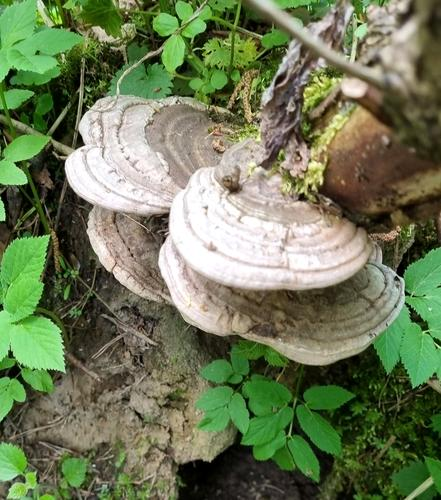Ganoderma - Fruit Body: (57, 72, 416, 387)
